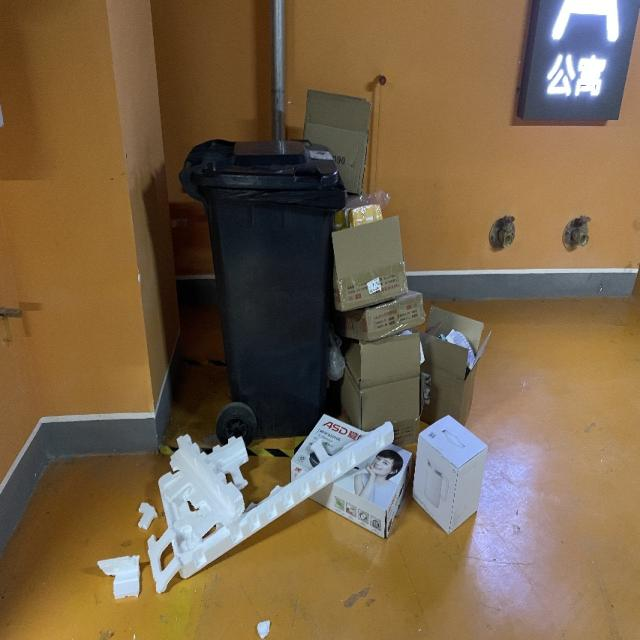garbage: (92, 413, 486, 596), (302, 88, 490, 448)
garbage_bin: (177, 138, 346, 436)
